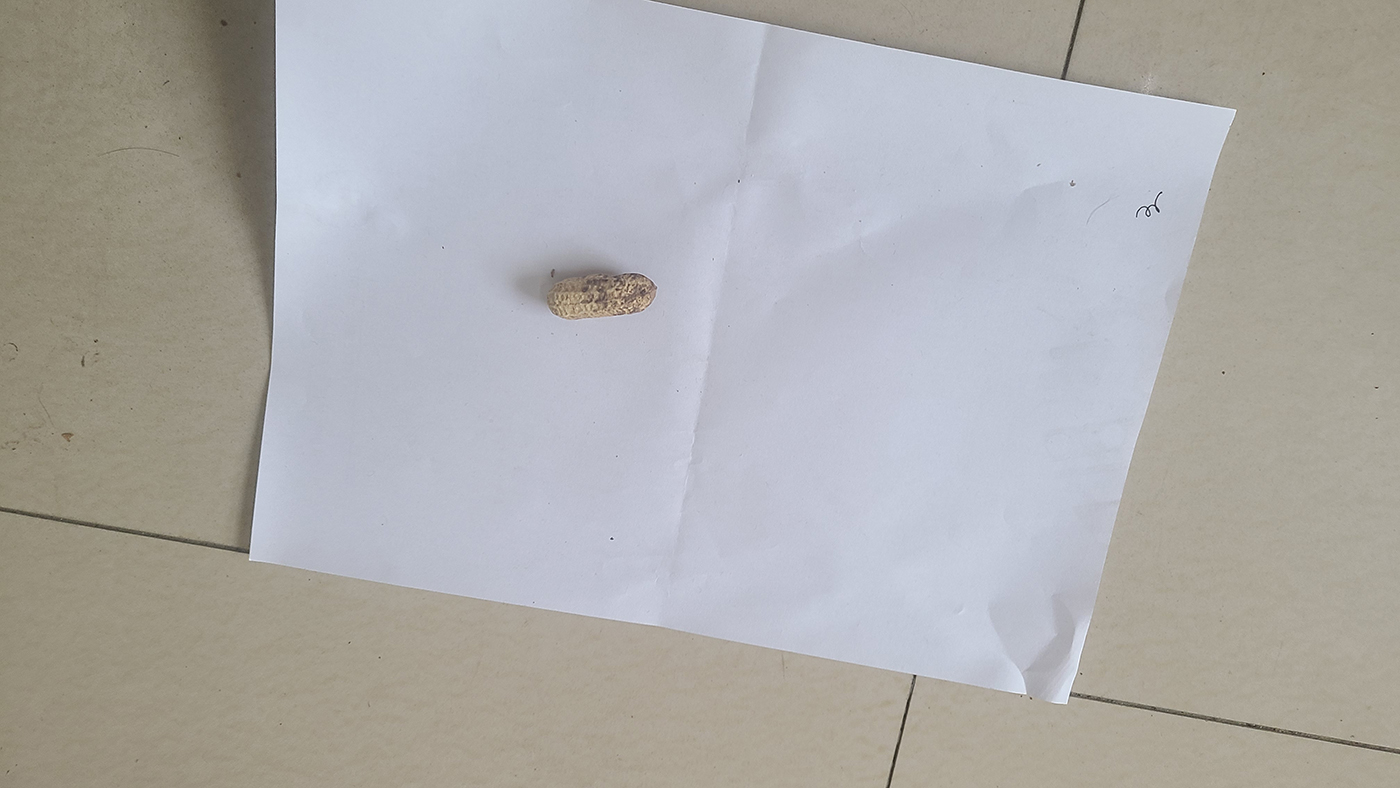h: (546, 272, 658, 319)
